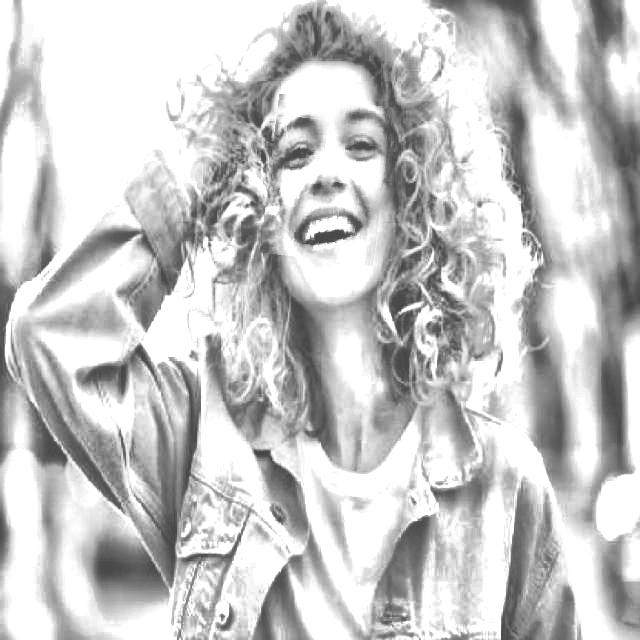happy: (264, 97, 388, 263)
